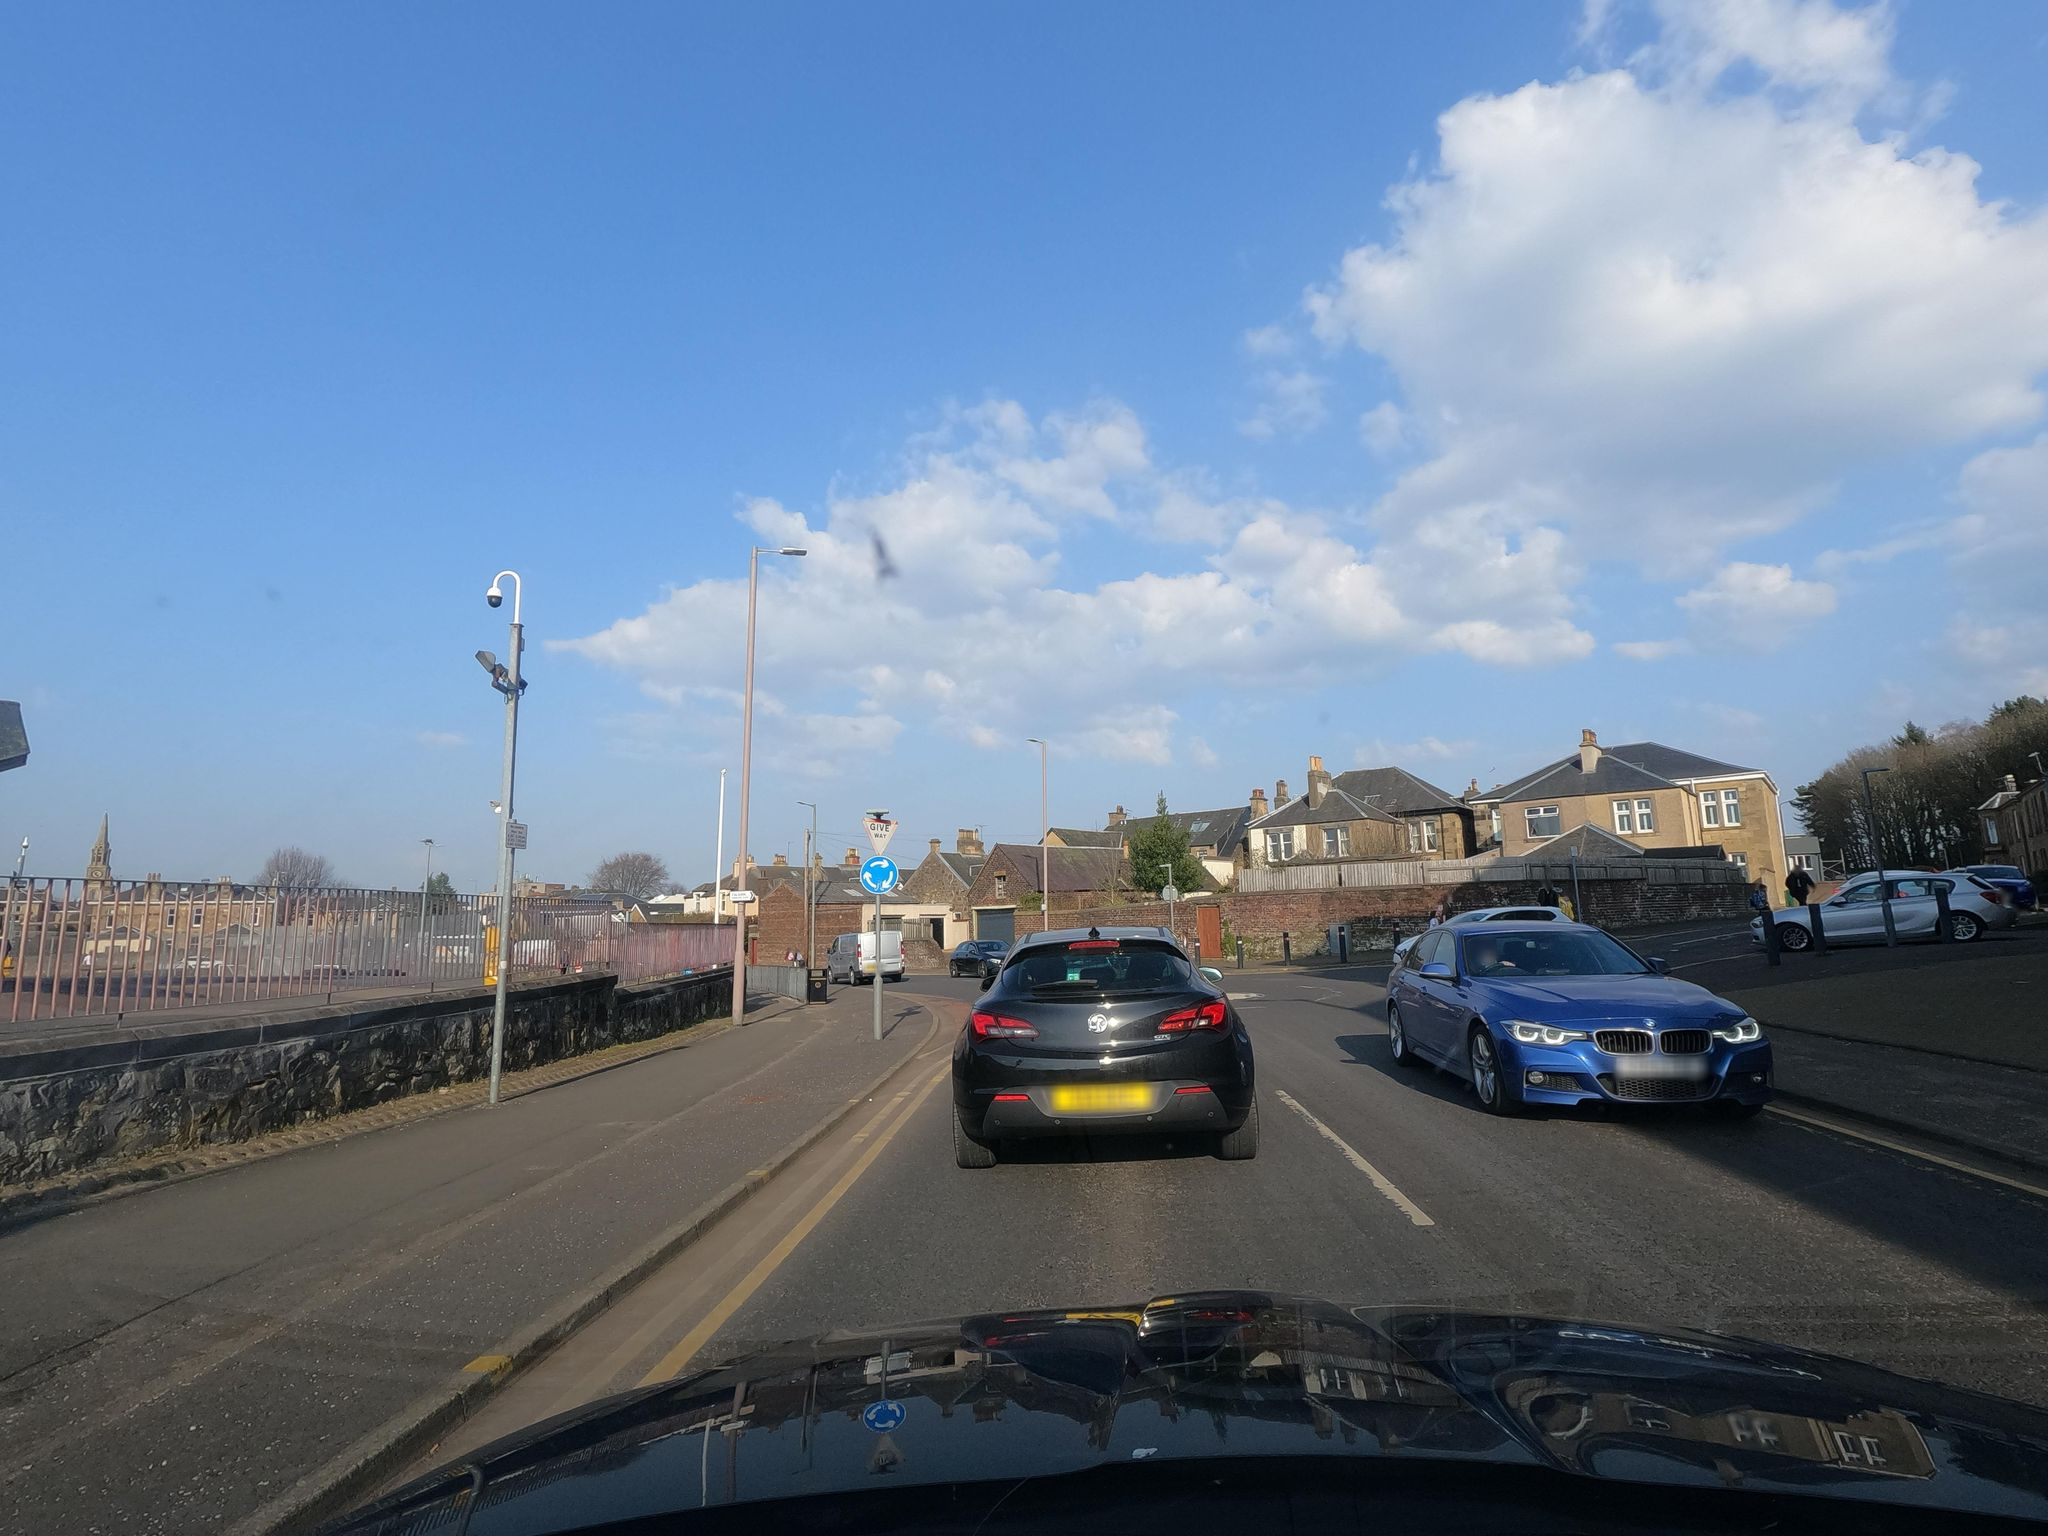car: (1385, 921, 1775, 1121), (950, 925, 1261, 1168), (1748, 871, 2009, 950), (1392, 904, 1576, 963), (826, 929, 905, 984), (1966, 865, 2033, 908), (948, 939, 1011, 979)
